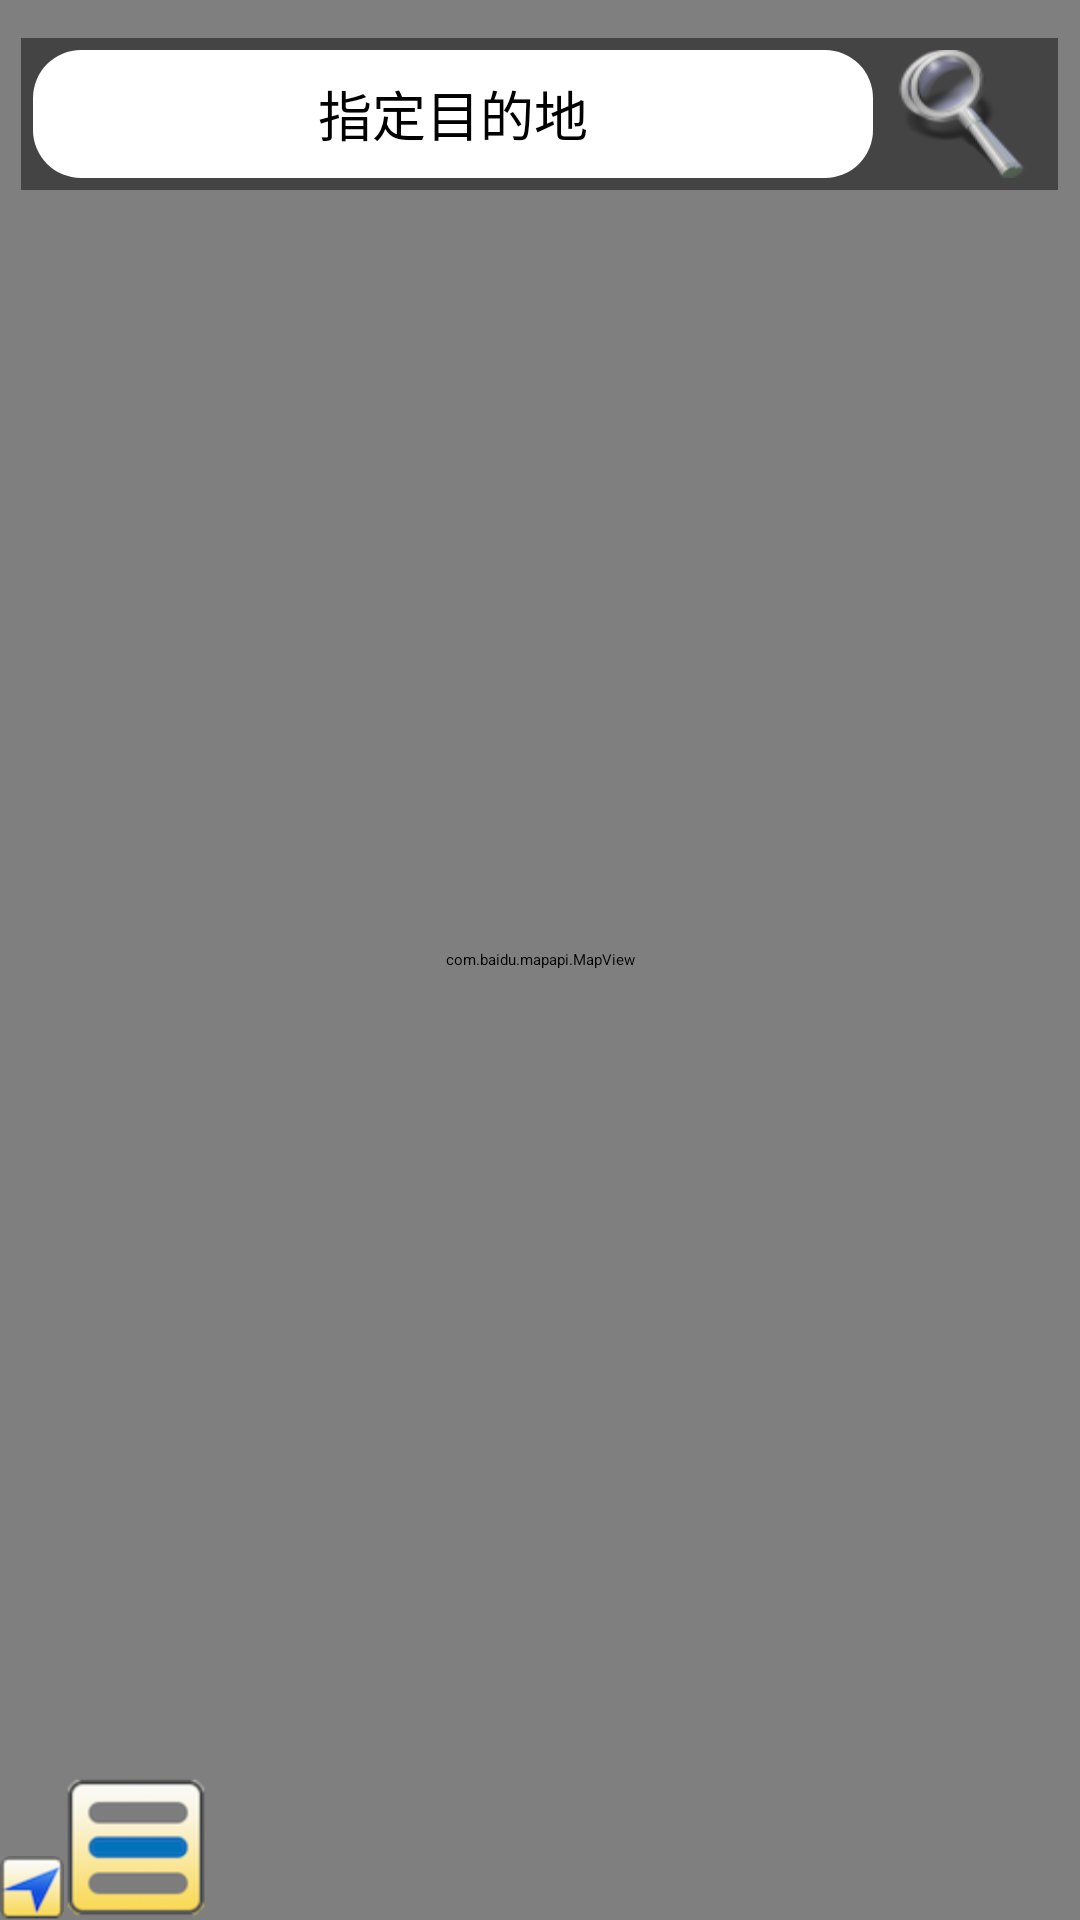

Screen size 1080px×1920px. Icon name, then its box in pixels as (x1,y1,x2,y2):
search: (899,50,1023,176)
